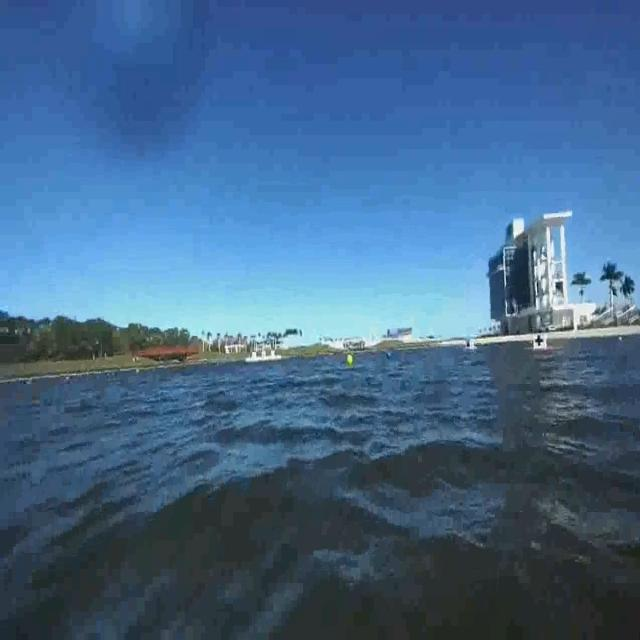yellow-buoy: (347, 352, 355, 368)
